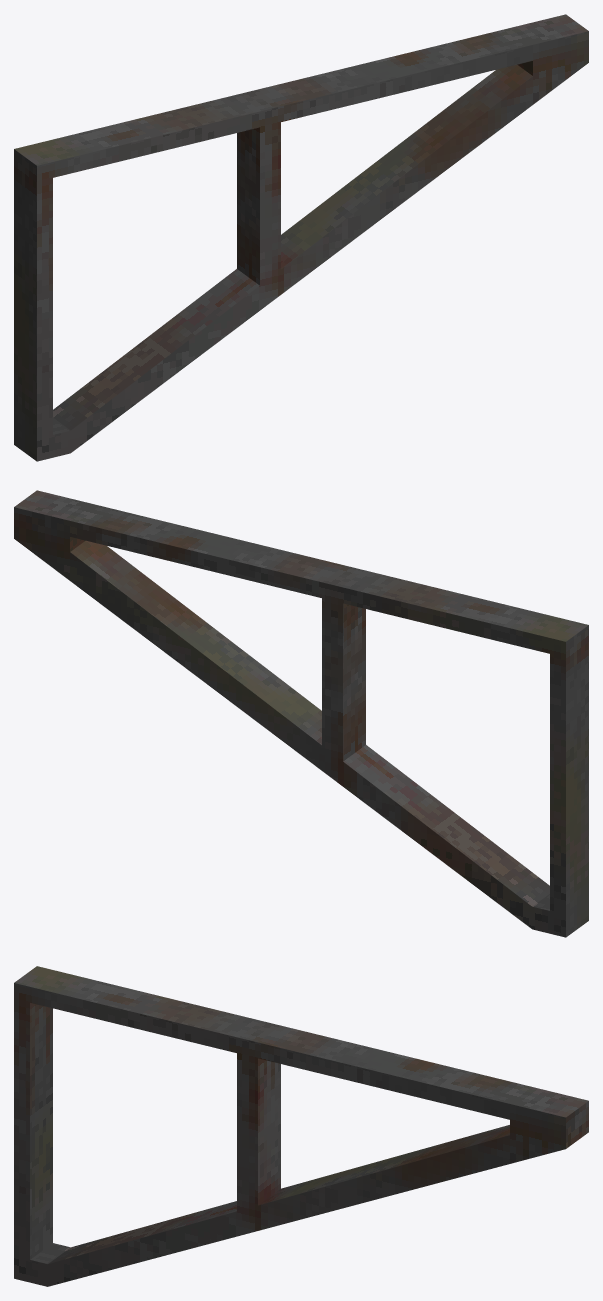
The model's file is MetalCatwalkSupport.glb.
3 views of the same model, one above another, from view 1: azimuth 30°, elevation 25°; view 2: azimuth 150°, elevation 25°; view 3: azimuth 330°, elevation 25° (orthographic).
Parts seen in each view (by area): view 1: Plane.037; view 2: Plane.037; view 3: Plane.037.
Boxes of the visible parts, x1,y1,x2,y2 form: Plane.037: (14,14,588,461); Plane.037: (14,490,588,937); Plane.037: (14,966,588,1286).
Bounding box in the file's own units: 3.32 × 1.7 × 0.24.
Materials: 1 (1 with a texture image).
